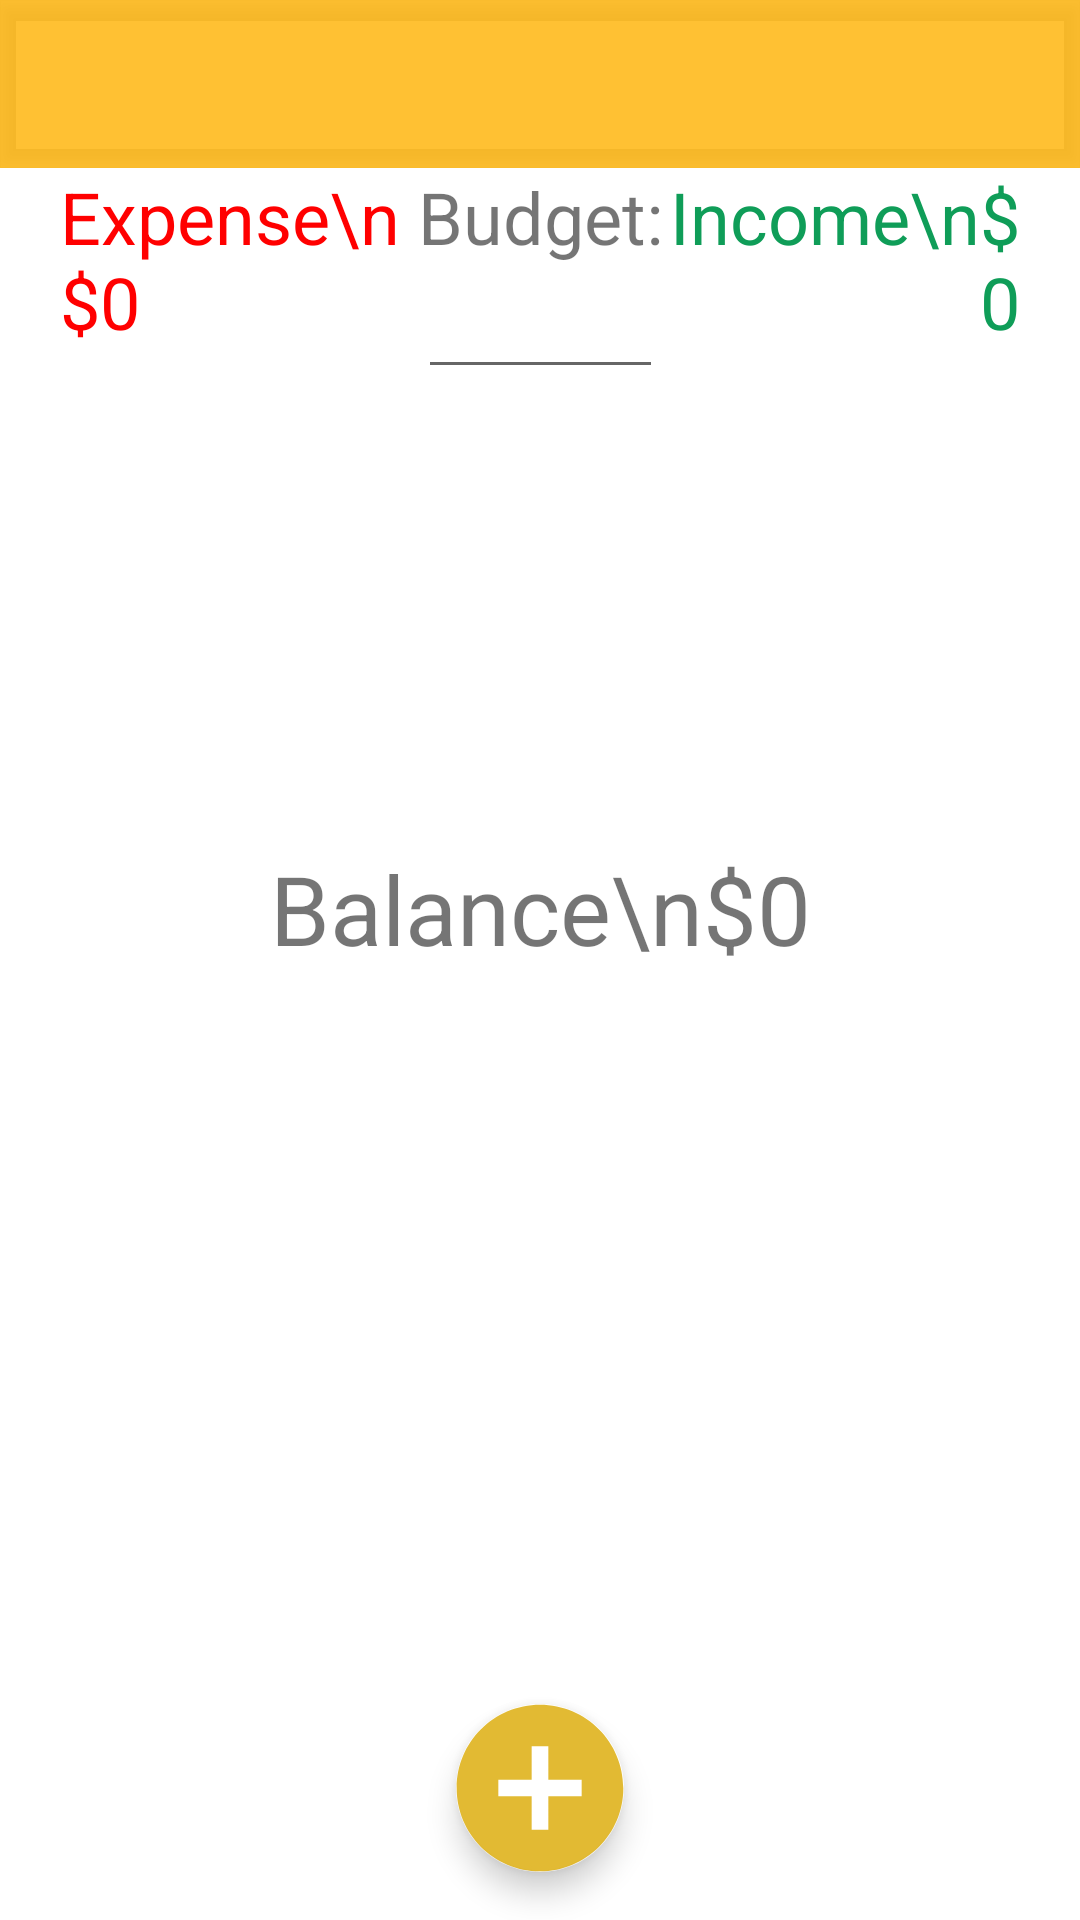

Point at icon controls on the screen. Image size 1080w x 1920h, points as (x,y).
plus: (540,1788)
